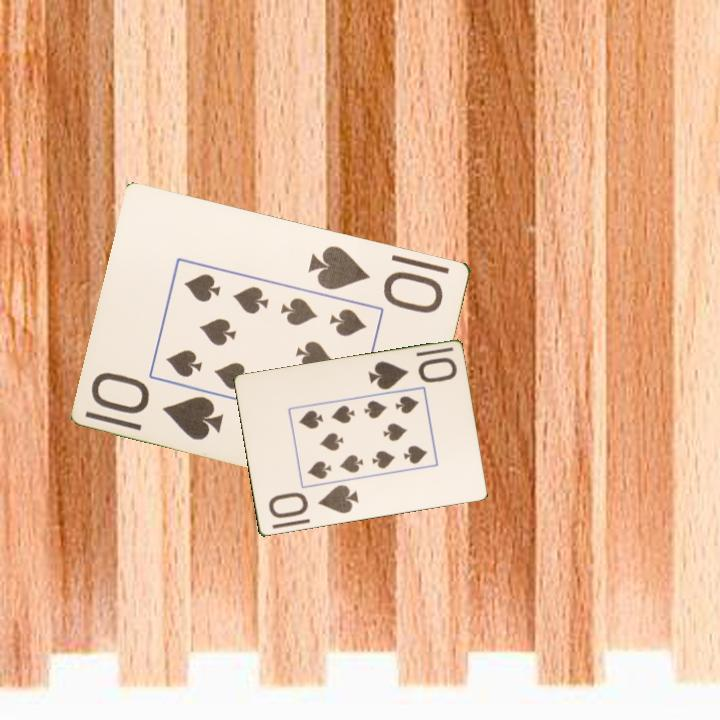10s: (305, 241, 447, 316), (88, 368, 228, 443), (264, 482, 361, 522), (364, 354, 460, 393)
